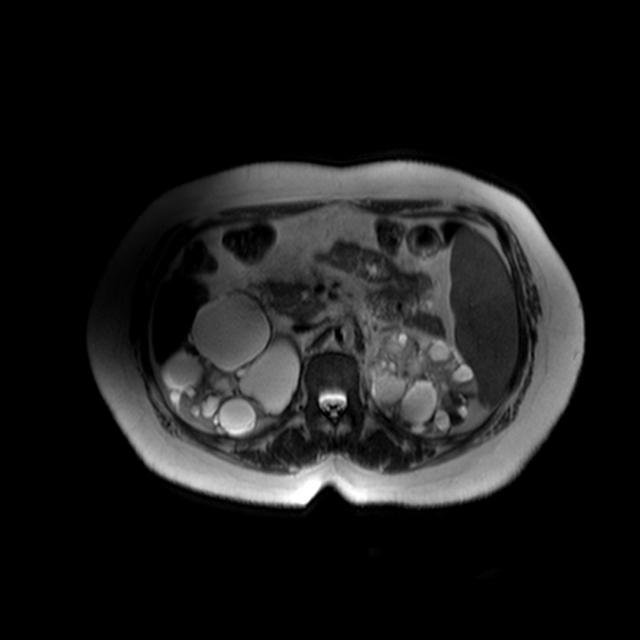sag: (163, 288, 303, 433)
sol: (363, 322, 483, 436)
